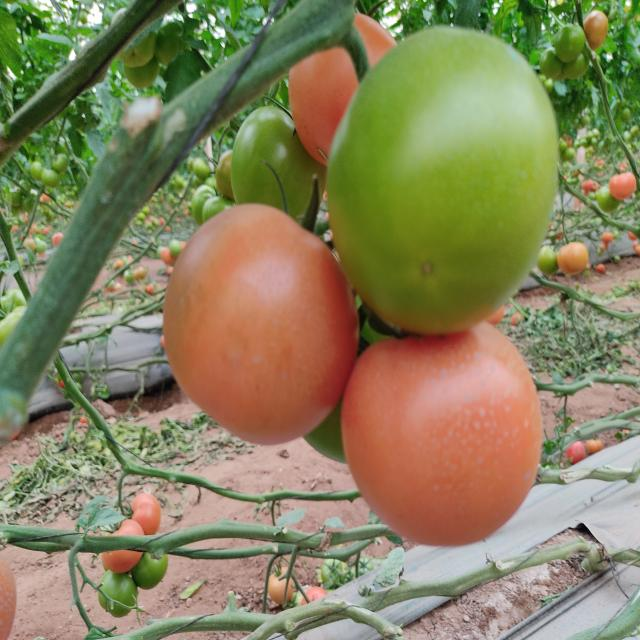Ripe Tomato: (340, 318, 541, 547), (168, 207, 357, 444), (282, 10, 399, 172)
Unripe Tomato: (334, 24, 560, 339), (238, 104, 327, 232)
